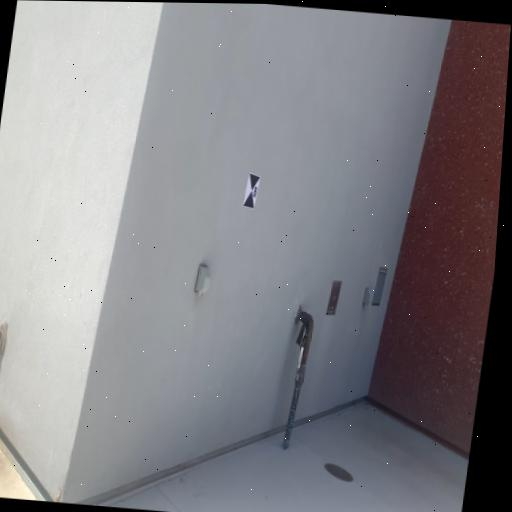target8: (243, 174, 261, 211)
